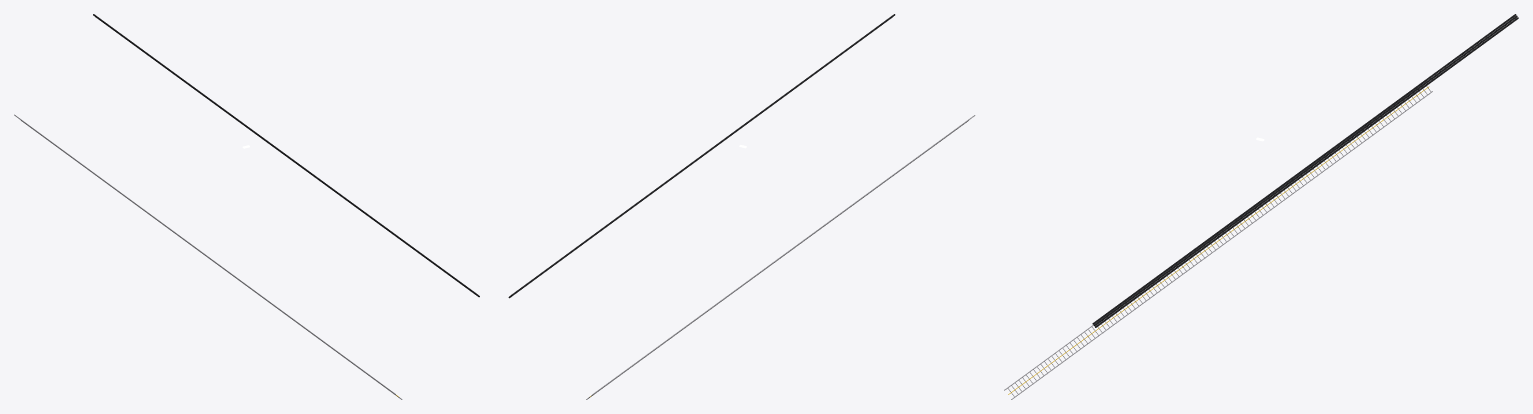
The model's file is ladder_2.glb.
3 views of the same model, side by side, from view 1: azimuth 30°, elevation 25°; view 2: azimuth 150°, elevation 25°; view 3: azimuth 330°, elevation 25° (orthographic). The views are drawn at different scales.
Parts seen in each view (by area): view 1: ladder_2; view 2: ladder_2; view 3: ladder_2.
Boxes of the visible parts, box(x1,y1,x2,y2) form: ladder_2: box(14, 14, 479, 399); ladder_2: box(508, 14, 975, 399); ladder_2: box(1004, 14, 1518, 399).
Size of the model in its own units: 4.12 by 4.94 by 32.41.
Materials: 4 (2 with a texture image).
